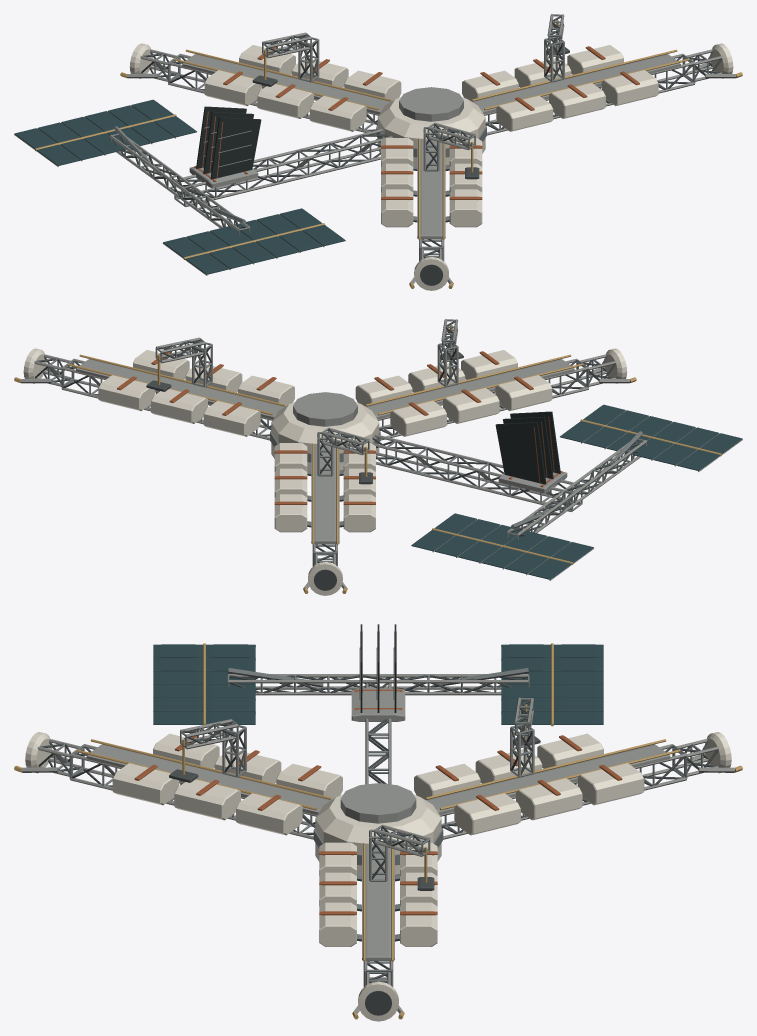
Rendered from foundry-delta-v001.glb.
The picture shows the model from 3 angles, top to bottom: view 1: azimuth 30°, elevation 25°; view 2: azimuth 150°, elevation 25°; view 3: azimuth 270°, elevation 25°; orthographic projection. The views are drawn at different scales.
Visible parts, largest first — view 1: foundry-delta-dispatch-pier-1, foundry-delta-dispatch-pier-2, foundry-delta-dispatch-pier-3, foundry-delta-solar-starboard, foundry-delta-solar-port, foundry-delta-transfer-hub, foundry-delta-thermal-collector, foundry-delta-utility-feed, foundry-delta-photovoltaic-yoke, foundry-delta-transfer-loader-2, foundry-delta-transfer-loader-3, foundry-delta-freighter-collar-1 (+3 smaller); view 2: foundry-delta-dispatch-pier-3, foundry-delta-dispatch-pier-1, foundry-delta-dispatch-pier-2, foundry-delta-solar-port, foundry-delta-solar-starboard, foundry-delta-transfer-hub, foundry-delta-thermal-collector, foundry-delta-utility-feed, foundry-delta-photovoltaic-yoke, foundry-delta-transfer-loader-1, foundry-delta-transfer-loader-2, foundry-delta-freighter-collar-1 (+3 smaller); view 3: foundry-delta-dispatch-pier-2, foundry-delta-dispatch-pier-3, foundry-delta-dispatch-pier-1, foundry-delta-solar-starboard, foundry-delta-solar-port, foundry-delta-transfer-hub, foundry-delta-photovoltaic-yoke, foundry-delta-thermal-collector, foundry-delta-transfer-loader-3, foundry-delta-transfer-loader-1, foundry-delta-freighter-collar-3, foundry-delta-freighter-collar-2 (+3 smaller).
Boxes of the visible parts, x1=… form: foundry-delta-dispatch-pier-1: x1=462, y1=45, x2=695, y2=135; foundry-delta-dispatch-pier-2: x1=168, y1=45, x2=401, y2=134; foundry-delta-dispatch-pier-3: x1=381, y1=138, x2=482, y2=261; foundry-delta-solar-starboard: x1=162, y1=208, x2=345, y2=275; foundry-delta-solar-port: x1=14, y1=99, x2=196, y2=166; foundry-delta-transfer-hub: x1=376, y1=87, x2=486, y2=165; foundry-delta-thermal-collector: x1=189, y1=106, x2=261, y2=188; foundry-delta-utility-feed: x1=174, y1=129, x2=392, y2=206; foundry-delta-photovoltaic-yoke: x1=109, y1=126, x2=250, y2=235; foundry-delta-transfer-loader-2: x1=252, y1=32, x2=319, y2=86; foundry-delta-transfer-loader-3: x1=423, y1=122, x2=479, y2=179; foundry-delta-freighter-collar-1: x1=683, y1=43, x2=742, y2=81; foundry-delta-dispatch-pier-3: x1=355, y1=350, x2=588, y2=440; foundry-delta-dispatch-pier-1: x1=61, y1=350, x2=294, y2=440; foundry-delta-dispatch-pier-2: x1=274, y1=443, x2=375, y2=566; foundry-delta-solar-port: x1=411, y1=513, x2=594, y2=580; foundry-delta-solar-starboard: x1=560, y1=404, x2=742, y2=471; foundry-delta-transfer-hub: x1=270, y1=392, x2=380, y2=470; foundry-delta-thermal-collector: x1=495, y1=411, x2=567, y2=493; foundry-delta-utility-feed: x1=367, y1=434, x2=582, y2=511; foundry-delta-photovoltaic-yoke: x1=506, y1=431, x2=647, y2=540; foundry-delta-transfer-loader-1: x1=146, y1=337, x2=212, y2=391; foundry-delta-transfer-loader-2: x1=317, y1=427, x2=372, y2=484; foundry-delta-freighter-collar-1: x1=14, y1=348, x2=73, y2=386; foundry-delta-dispatch-pier-2: x1=414, y1=733, x2=687, y2=839; foundry-delta-dispatch-pier-3: x1=69, y1=733, x2=342, y2=839; foundry-delta-dispatch-pier-1: x1=319, y1=842, x2=437, y2=987; foundry-delta-solar-starboard: x1=153, y1=643, x2=255, y2=724; foundry-delta-solar-port: x1=501, y1=643, x2=603, y2=726; foundry-delta-transfer-hub: x1=313, y1=783, x2=443, y2=874; foundry-delta-photovoltaic-yoke: x1=227, y1=668, x2=529, y2=695; foundry-delta-thermal-collector: x1=351, y1=624, x2=405, y2=721; foundry-delta-transfer-loader-3: x1=169, y1=719, x2=246, y2=782; foundry-delta-transfer-loader-1: x1=369, y1=824, x2=434, y2=890; foundry-delta-freighter-collar-3: x1=14, y1=732, x2=83, y2=776; foundry-delta-freighter-collar-2: x1=673, y1=732, x2=742, y2=776.
Size of the model in its own units: 639 by 96 by 553.
Materials: 1 (1 with a texture image).
